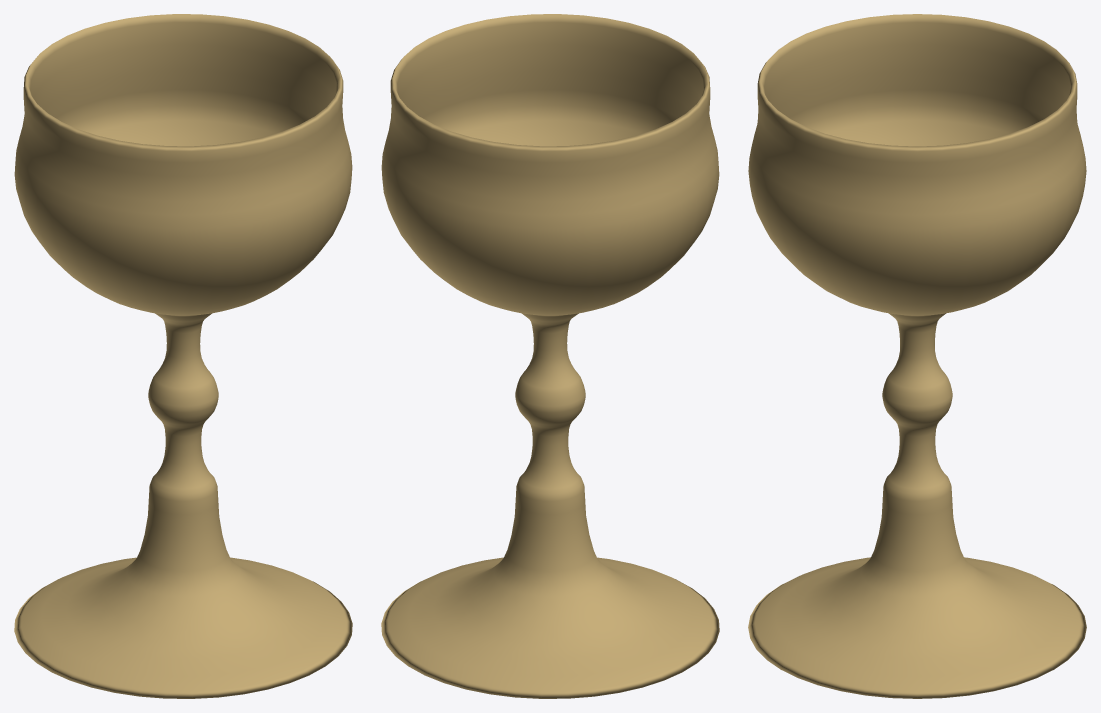
The model's file is Grail.fbx.
3 views of the same model, side by side, from view 1: azimuth 30°, elevation 25°; view 2: azimuth 150°, elevation 25°; view 3: azimuth 270°, elevation 25° (orthographic).
Parts seen in each view (by area): view 1: pCylinder1; view 2: pCylinder1; view 3: pCylinder1.
Part boxes in pixels (x1,y1,x2,y2): pCylinder1: (14, 14, 352, 698); pCylinder1: (381, 14, 719, 698); pCylinder1: (748, 14, 1086, 698).
Bounding box in the file's own units: 1.79 × 3.25 × 1.79.
